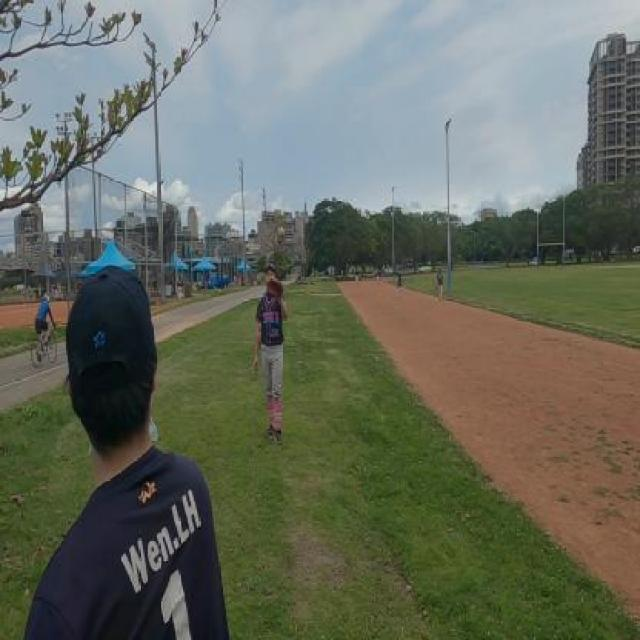baseball: (278, 226, 285, 239)
